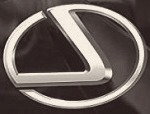Lexus: (1, 2, 149, 111)
